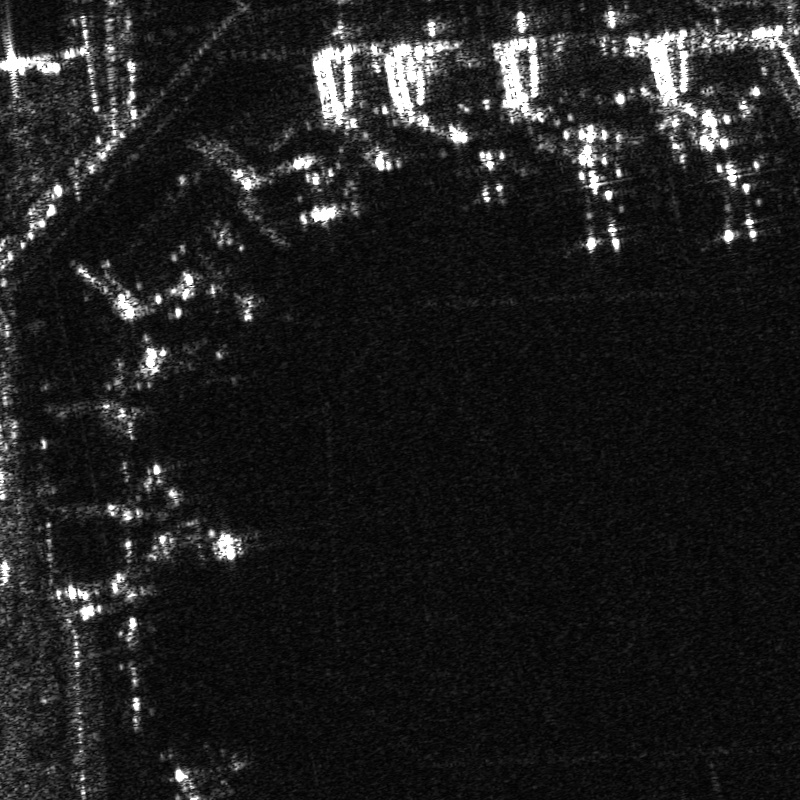A220: (450, 141, 531, 210)
A320/321: (124, 483, 252, 570), (187, 263, 269, 328)
Boeing787: (538, 137, 648, 260)
other: (689, 126, 789, 245)
